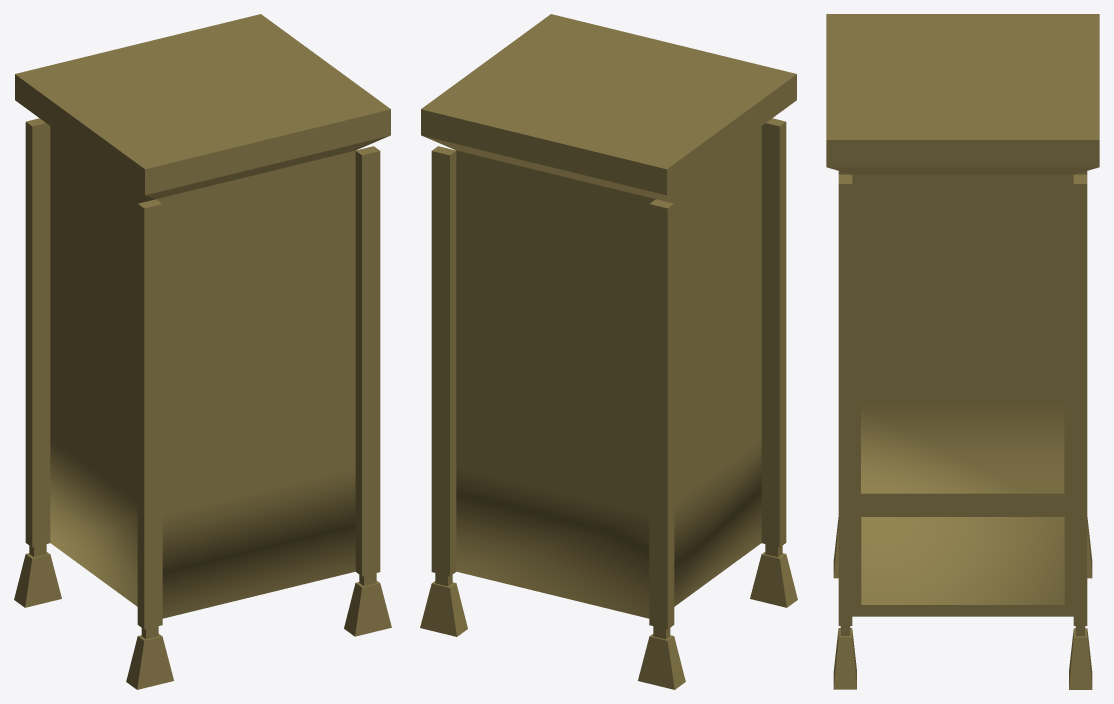
File: DrawerFrame.fbx
The picture shows the model from 3 angles, left to right: view 1: azimuth 30°, elevation 25°; view 2: azimuth 150°, elevation 25°; view 3: azimuth 270°, elevation 25°; orthographic projection. The views are drawn at different scales.
Visible parts, largest first — view 1: drawer_frame; view 2: drawer_frame; view 3: drawer_frame.
Part boxes in pixels (x1,y1,x2,y2): drawer_frame: (14, 14, 391, 689); drawer_frame: (420, 14, 797, 689); drawer_frame: (826, 14, 1099, 689).
Size of the model in its own units: 4.09 by 8.01 by 3.62.
